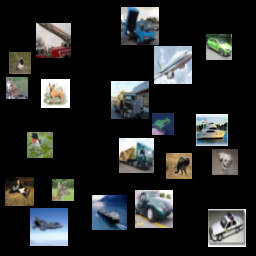airplane: (30, 208, 68, 246), (154, 46, 192, 84)
automobile: (135, 190, 173, 228), (208, 209, 246, 247), (206, 34, 232, 60)
bird: (166, 153, 192, 179), (27, 132, 53, 158), (9, 52, 31, 74)
cat: (5, 177, 34, 206), (6, 77, 28, 99)
deer: (52, 179, 74, 201)
dog: (41, 79, 70, 108), (212, 149, 238, 175)
frog: (152, 113, 174, 135)
ship: (92, 195, 127, 230), (196, 114, 228, 146)
